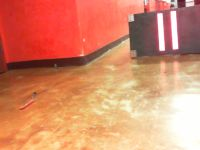switch: (170, 11, 179, 50), (157, 13, 165, 51)
